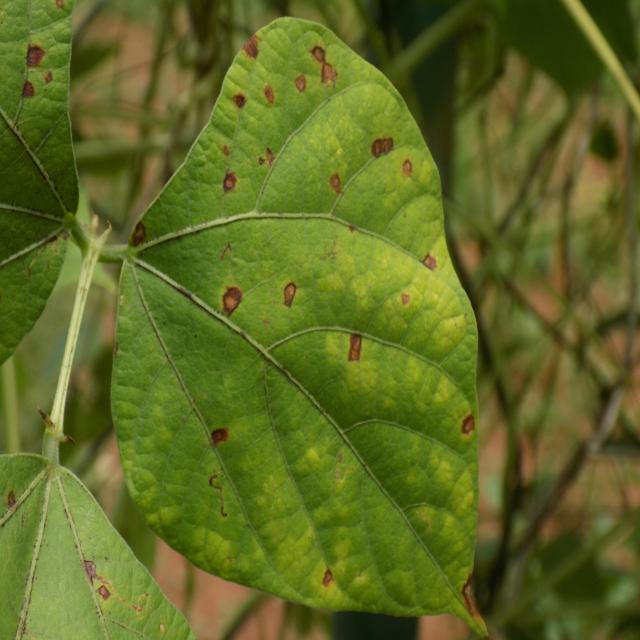Dolicos bean_cercospora leaf spot: (115, 14, 482, 622)
